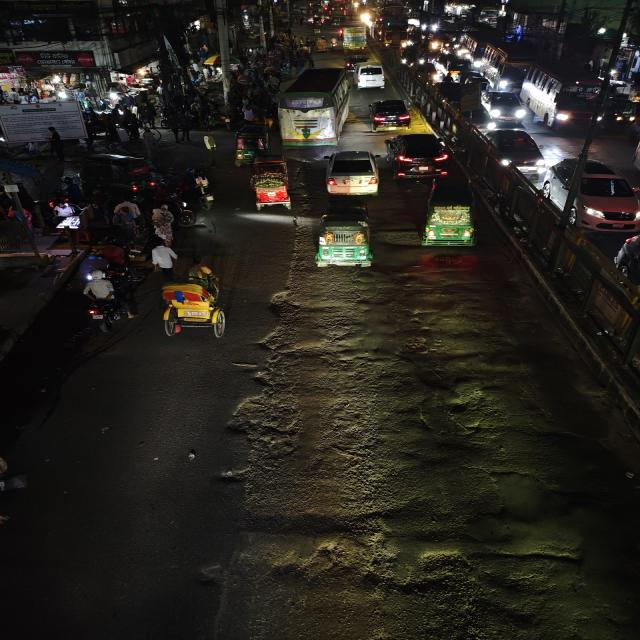bus: (276, 66, 354, 148), (522, 61, 611, 130), (482, 43, 530, 89)
car: (542, 156, 640, 238), (480, 126, 549, 174), (319, 148, 382, 196), (383, 131, 450, 173), (612, 231, 640, 311), (482, 88, 528, 124), (369, 97, 414, 131), (353, 61, 388, 91)
cng: (416, 177, 481, 251), (311, 204, 379, 272), (79, 150, 159, 192), (232, 123, 270, 162), (607, 94, 639, 128)
motorcycle: (79, 274, 126, 329), (188, 170, 218, 211)
pedestrian: (110, 200, 143, 238), (146, 241, 178, 277), (172, 112, 192, 142), (199, 131, 219, 154)
rickshaw: (156, 265, 238, 340), (247, 155, 297, 212)
truck: (338, 26, 369, 54)
